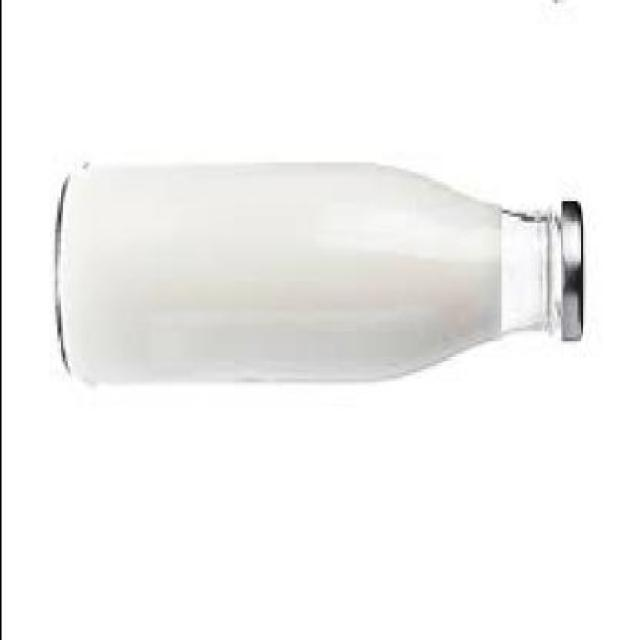GLASS: (56, 159, 564, 379)
METAL: (561, 198, 584, 334)
